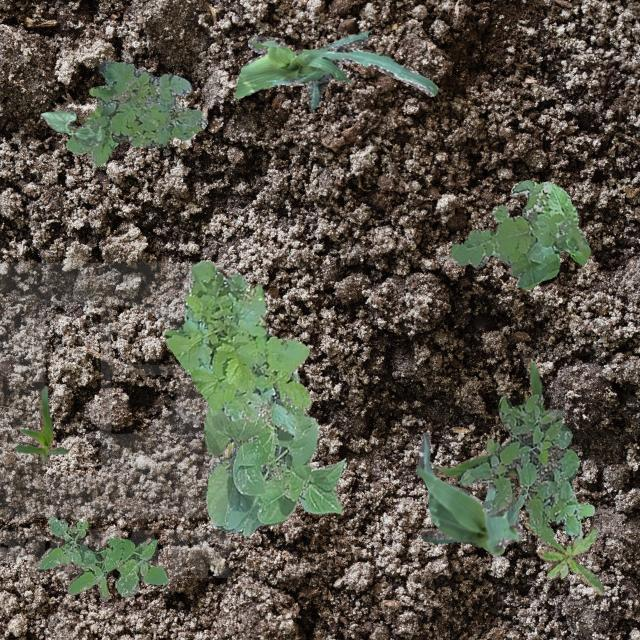crop: (202, 370, 346, 536), (234, 30, 436, 109), (414, 432, 522, 558), (432, 358, 540, 478), (14, 384, 68, 460), (38, 108, 100, 146)
weed: (163, 258, 310, 438), (456, 392, 594, 540), (450, 178, 590, 288), (65, 61, 206, 166), (36, 514, 166, 600), (524, 517, 604, 593), (225, 442, 232, 456)
